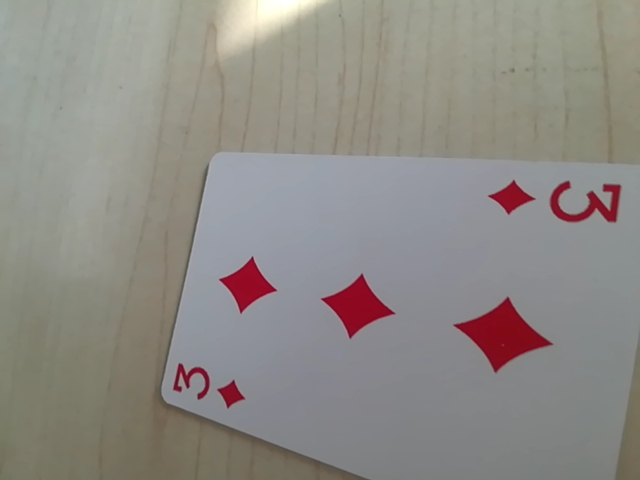fk 3: (487, 174, 621, 231), (167, 352, 248, 415)
